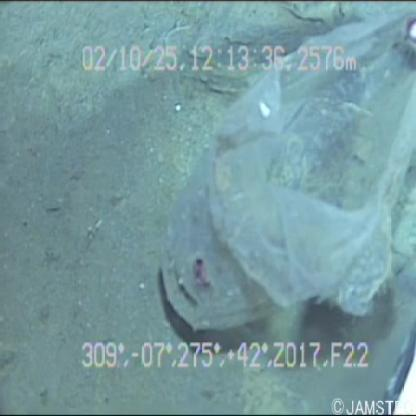Rác: (140, 1, 416, 349)
